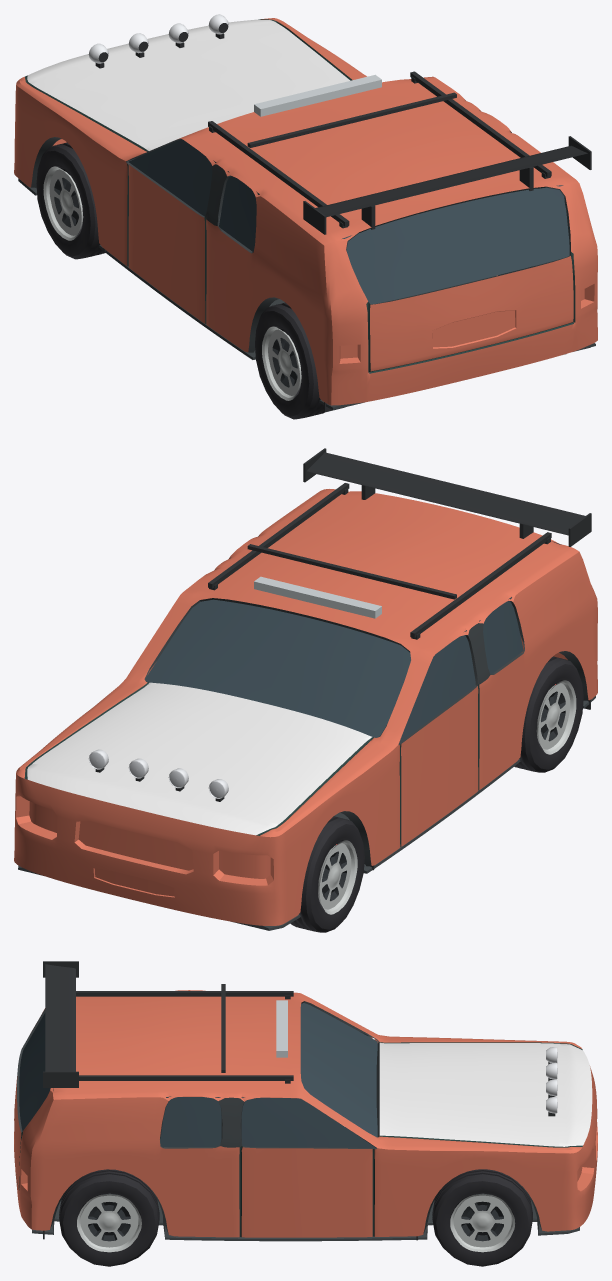
File: forge_closed_rally_lod2.fbx
The picture shows the model from 3 angles, top to bottom: view 1: azimuth 30°, elevation 25°; view 2: azimuth 150°, elevation 25°; view 3: azimuth 270°, elevation 25°; orthographic projection. The views are drawn at different scales.
Parts seen in each view (by area): view 1: Body, Wheel_RL_Mesh, Wheel_FL_Mesh; view 2: Body, Wheel_FL_Mesh, Wheel_RL_Mesh; view 3: Body, Wheel_RR_Mesh, Wheel_FR_Mesh.
Part boxes in pixels (x1,y1,x2,y2): Body: (14,14,597,412); Wheel_RL_Mesh: (255,302,324,419); Wheel_FL_Mesh: (36,142,105,259); Body: (14,448,597,930); Wheel_FL_Mesh: (290,816,364,932); Wheel_RL_Mesh: (514,656,583,772); Body: (14,961,597,1241); Wheel_RR_Mesh: (59,1169,159,1266); Wheel_FR_Mesh: (432,1169,532,1266).
Bounding box in the file's own units: 160 × 125 × 341.
